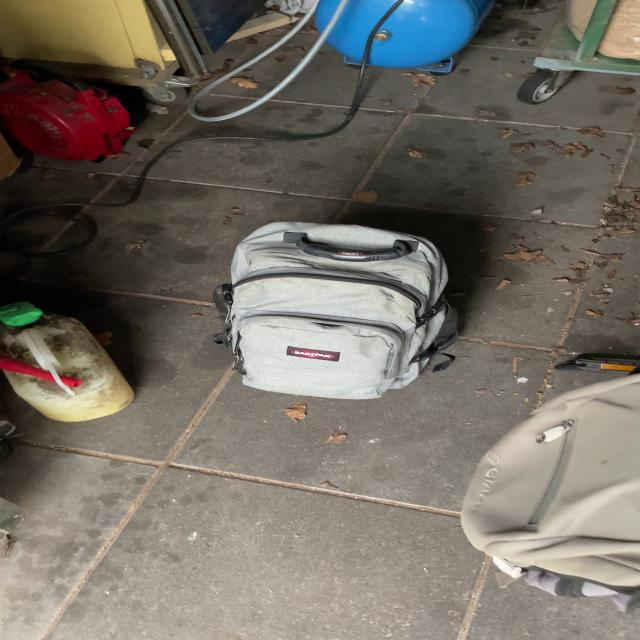backpack: (204, 214, 474, 404)
